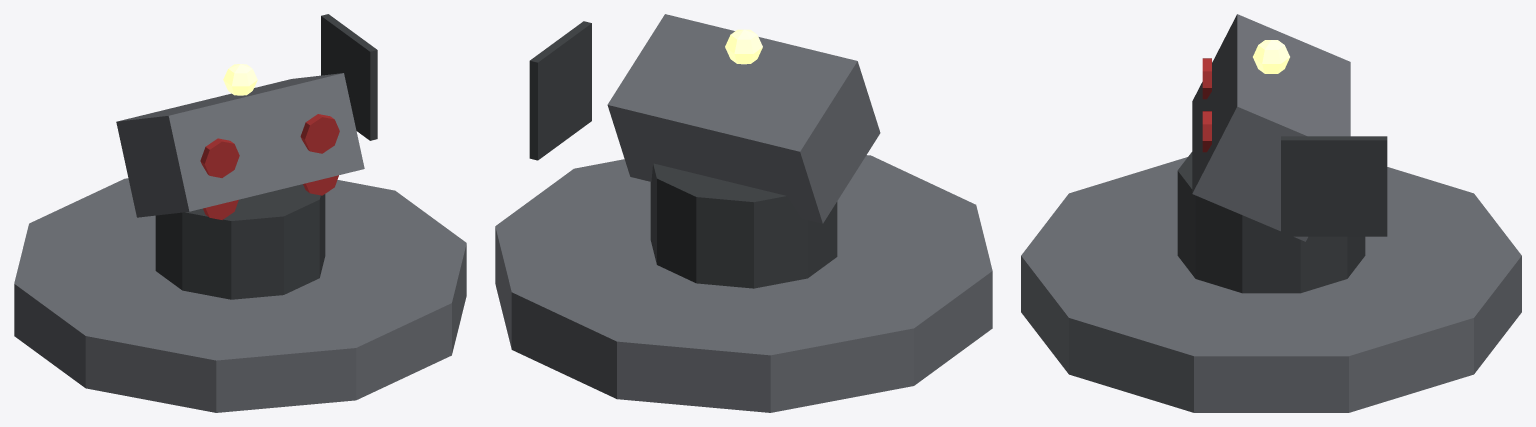
The model's file is NPC_SAMSite.fbx.
3 renders of one model, left to right at view 1: azimuth 30°, elevation 25°; view 2: azimuth 150°, elevation 25°; view 3: azimuth 270°, elevation 25°, orthographic. The views are drawn at different scales.
Visible parts, largest first — view 1: Hull.004, Trim.007, Markings.004, Lights.001; view 2: Hull.004, Trim.007, Lights.001; view 3: Hull.004, Trim.007, Lights.001, Markings.004.
Part boxes in pixels (bbox=[...]): Hull.004: bbox=[14, 73, 466, 412]; Trim.007: bbox=[155, 14, 377, 299]; Markings.004: bbox=[200, 114, 339, 219]; Lights.001: bbox=[223, 64, 257, 95]; Hull.004: bbox=[495, 14, 992, 412]; Trim.007: bbox=[529, 21, 837, 288]; Lights.001: bbox=[725, 29, 762, 64]; Hull.004: bbox=[1021, 14, 1521, 412]; Trim.007: bbox=[1177, 136, 1387, 293]; Lights.001: bbox=[1253, 40, 1289, 73]; Markings.004: bbox=[1202, 58, 1211, 152].
Bounding box in the file's own units: 15.22 × 9.6 × 16.
